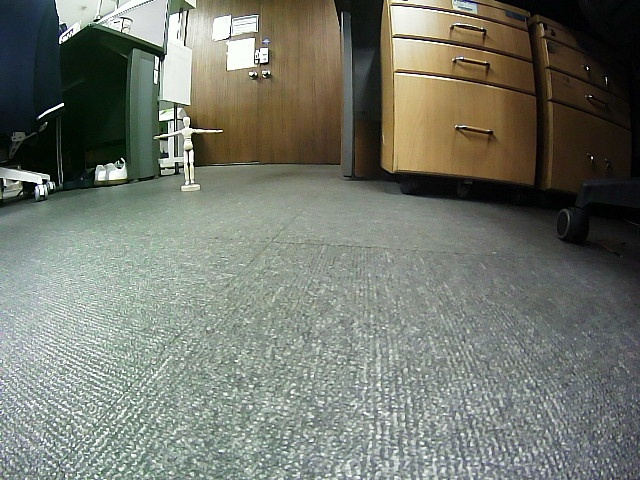person: (154, 115, 222, 183)
